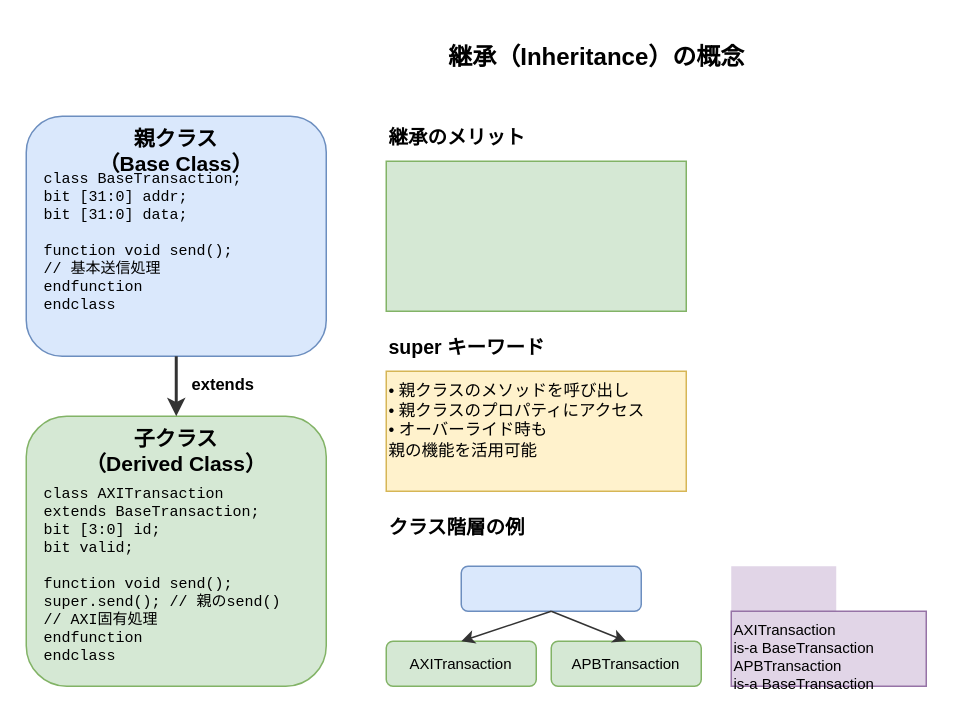
Some shapes in this 953 by 719 pixel diagram are drawn without their labels. The shapes that lost their labels are listed below. From the top down, each one's centre as x and y in pixels, then its label:
At (x=535, y=235): "✓ コードの再利用 ✓ 共通機能を親クラスに集約 ✓ 子クラスは独自機能を追加 ✓ 親クラスのメソッドを オーバーライド可能".
At (x=550, y=588): "BaseTransaction".
At (x=783, y=588): "is-a関係".
